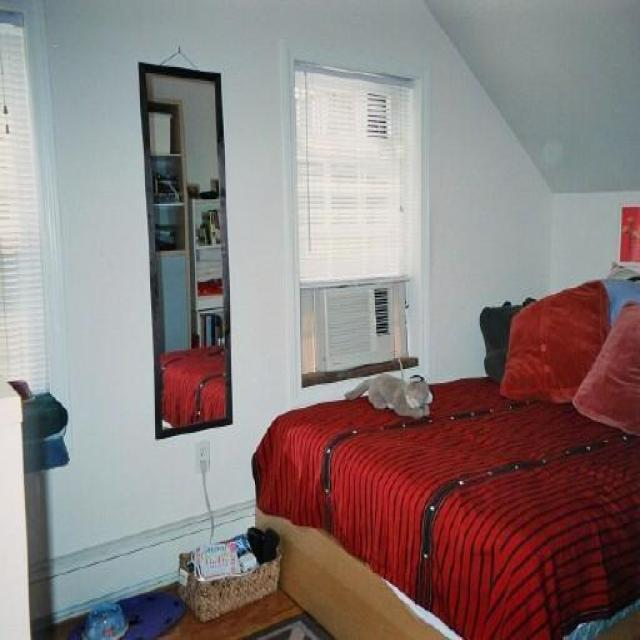curtains: (0, 16, 48, 396)
pillows: (571, 301, 639, 436)
rugs: (66, 587, 186, 638), (234, 609, 335, 638)
sofa: (251, 276, 639, 638)
windows: (291, 58, 425, 388)
